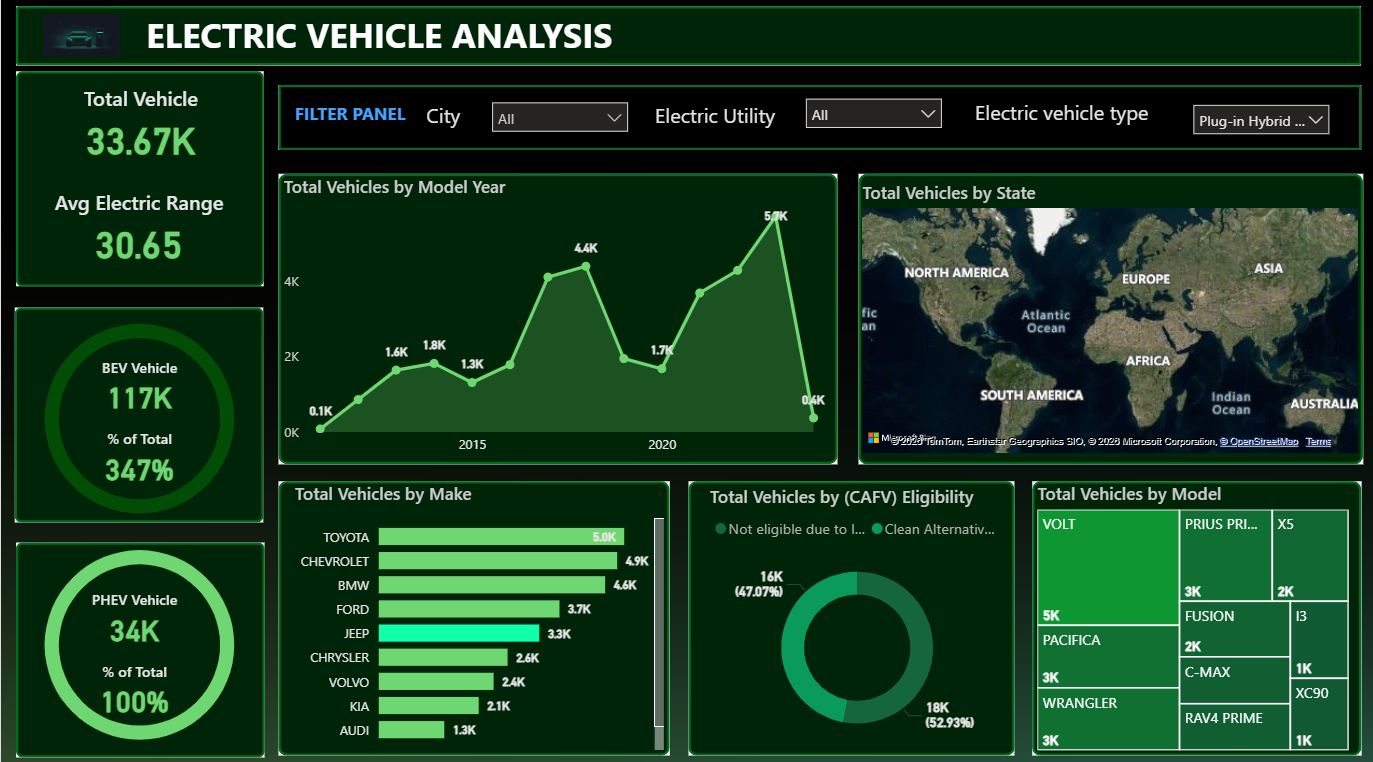

Layout of this report page (visuals, bound fields, positions):
{"tool":"powerbi","page":{"name":"Page 1","canvas":[1280,720],"ordinal":0},"visuals":[{"type":"shape","box":[13.7,11,1251.5,54.9],"z":0},{"type":"textbox","box":[130.4,11,462.4,54.9],"z":1000},{"type":"shape","box":[13.7,71.4,230.5,200.3],"z":2000},{"type":"card","title":"Total Vehicle","fields":{"Values":["Electric_Vehicle_Population_Data.Total Vehicles"]},"box":[31.6,83.7,197.6,75.5],"z":3000},{"type":"card","title":"Avg Electric Range","fields":{"Values":["Avg(Electric_Vehicle_Population_Data.Electric Range)"]},"box":[26.7,180.2,203.5,74.4],"z":4000},{"type":"shape","box":[12.8,290.7,231.4,200],"z":5000},{"type":"shape","box":[14,509.3,231.4,200],"z":6000},{"type":"donutChart","fields":{"Category":["Electric_Vehicle_Population_Data.Electric Vehicle Type"],"Y":["Electric_Vehicle_Population_Data.Total Vehicles"]},"box":[0,278.6,258,230.5],"z":7000},{"type":"card","title":"BEV Vehicle","fields":{"Values":["Electric_Vehicle_Population_Data.BEV Vehicles"]},"box":[30.2,337.6,197.6,56.3],"z":8000},{"type":"card","title":"% of  Total","fields":{"Values":["Electric_Vehicle_Population_Data.1 % of BEV"]},"box":[30.2,403.4,197.6,56.3],"z":9000},{"type":"donutChart","fields":{"Category":["Electric_Vehicle_Population_Data.Electric Vehicle Type"],"Y":["Electric_Vehicle_Population_Data.Total Vehicles"]},"box":[0,489.9,258,230.5],"z":10000},{"type":"card","title":"% of Total","fields":{"Values":["Electric_Vehicle_Population_Data.1 % of PHEV"]},"box":[26.1,620.2,197.6,56.3],"z":11000},{"type":"card","title":"PHEV Vehicle","fields":{"Values":["Electric_Vehicle_Population_Data.PHEV Vehicles"]},"box":[26.1,553,197.6,56.3],"z":12000},{"type":"shape","box":[258,83.7,1007.2,60.4],"z":13000},{"type":"shape","box":[258,166,520,270],"z":14000},{"type":"areaChart","fields":{"Category":["Electric_Vehicle_Population_Data.Model Year"],"Y":["Electric_Vehicle_Population_Data.Total Vehicles"]},"box":[258,166,516,270.3],"z":15000},{"type":"shape","box":[797.3,166,469.3,270.3],"z":16000},{"type":"shape","box":[258,452.8,363.6,255.2],"z":17000},{"type":"barChart","fields":{"Category":["Electric_Vehicle_Population_Data.Make"],"Y":["Electric_Vehicle_Population_Data.Total Vehicles"]},"box":[269,452.8,352.7,255.2],"z":18000},{"type":"shape","box":[639.5,452.8,303.3,255.2],"z":19000},{"type":"donutChart","title":"Total Vehicles by (CAFV) Eligibility","fields":{"Category":["Electric_Vehicle_Population_Data.Clean Alternative Fuel Vehicle (CAFV) Eligibility"],"Y":["Electric_Vehicle_Population_Data.Total Vehicles"]},"box":[654.5,454.2,284,253.9],"z":20000},{"type":"shape","box":[959.2,452.8,306,255.2],"z":21000},{"type":"treemap","fields":{"Group":["Electric_Vehicle_Population_Data.Model"],"Values":["Electric_Vehicle_Population_Data.Total Vehicles"]},"box":[959.2,452.8,299.1,255.2],"z":22000},{"type":"textbox","box":[269,94.7,122.1,38.4],"z":23000},{"type":"slicer","fields":{"Values":["Electric_Vehicle_Population_Data.City"]},"box":[446,89.2,146.8,49.4],"z":24000},{"type":"textbox","box":[391.1,94.7,49.4,38.4],"z":25000},{"type":"slicer","fields":{"Values":["Electric_Vehicle_Population_Data.Electric Utility"]},"box":[738.3,86.4,146.8,49.4],"z":26000},{"type":"textbox","box":[603.8,94.7,134.5,49.4],"z":27000},{"type":"slicer","fields":{"Values":["Electric_Vehicle_Population_Data.Electric Vehicle Type"]},"box":[1099.1,91.9,146.8,43.9],"z":28000},{"type":"textbox","box":[901.5,91.9,179.8,46.7],"z":29000},{"type":"image","box":[30.2,17.8,90.6,39.8],"z":30000},{"type":"map","fields":{"Series":["Electric_Vehicle_Population_Data.State"],"Size":["Electric_Vehicle_Population_Data.Total Vehicles"]},"box":[796.5,172.1,470.9,259.3],"z":31000}]}

Visuals, with their boxes in screenshot pixels (x1, y1, x2, y2), scaled from the page's 1280x720 canvas onto the 1373x762 screenshot:
shape: 15,12,1357,70
textbox: 140,12,636,70
shape: 15,76,262,288
"Total Vehicle" card: 34,89,246,168
"Avg Electric Range" card: 29,191,247,269
shape: 14,308,262,519
shape: 15,539,263,751
donutChart - Electric_Vehicle_Population_Data.Electric Vehicle Type x Electric_Vehicle_Population_Data.Total Vehicles: 0,295,277,539
"BEV Vehicle" card: 32,357,244,417
"% of  Total" card: 32,427,244,487
donutChart - Electric_Vehicle_Population_Data.Electric Vehicle Type x Electric_Vehicle_Population_Data.Total Vehicles: 0,518,277,761
"% of Total" card: 28,656,240,716
"PHEV Vehicle" card: 28,585,240,645
shape: 277,89,1357,153
shape: 277,176,835,461
areaChart - Electric_Vehicle_Population_Data.Model Year x Electric_Vehicle_Population_Data.Total Vehicles: 277,176,830,462
shape: 855,176,1359,462
shape: 277,479,667,749
barChart - Electric_Vehicle_Population_Data.Make x Electric_Vehicle_Population_Data.Total Vehicles: 289,479,667,749
shape: 686,479,1011,749
"Total Vehicles by (CAFV) Eligibility" donutChart: 702,481,1007,749
shape: 1029,479,1357,749
treemap - Electric_Vehicle_Population_Data.Model x Electric_Vehicle_Population_Data.Total Vehicles: 1029,479,1350,749
textbox: 289,100,420,141
slicer - Electric_Vehicle_Population_Data.City: 478,94,636,147
textbox: 420,100,473,141
slicer - Electric_Vehicle_Population_Data.Electric Utility: 792,91,949,144
textbox: 648,100,792,153
slicer - Electric_Vehicle_Population_Data.Electric Vehicle Type: 1179,97,1336,144
textbox: 967,97,1160,147
image: 32,19,130,61
map - Electric_Vehicle_Population_Data.State x Electric_Vehicle_Population_Data.Total Vehicles: 854,182,1359,457
